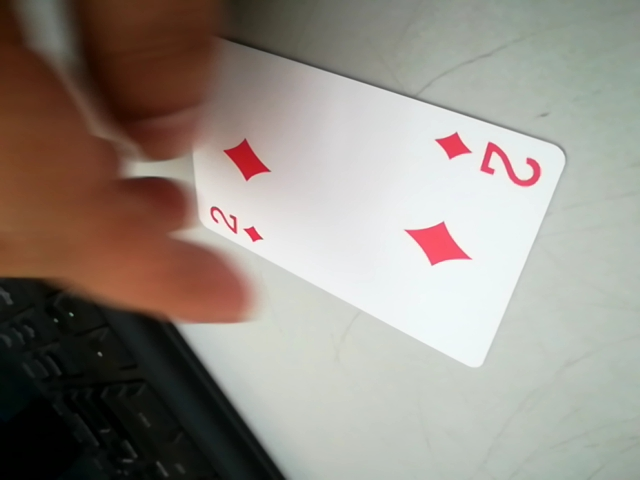fk 2: (426, 129, 551, 191), (199, 199, 267, 249)
